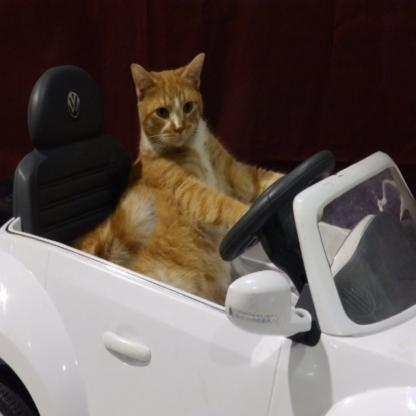Car: (1, 66, 416, 416)
